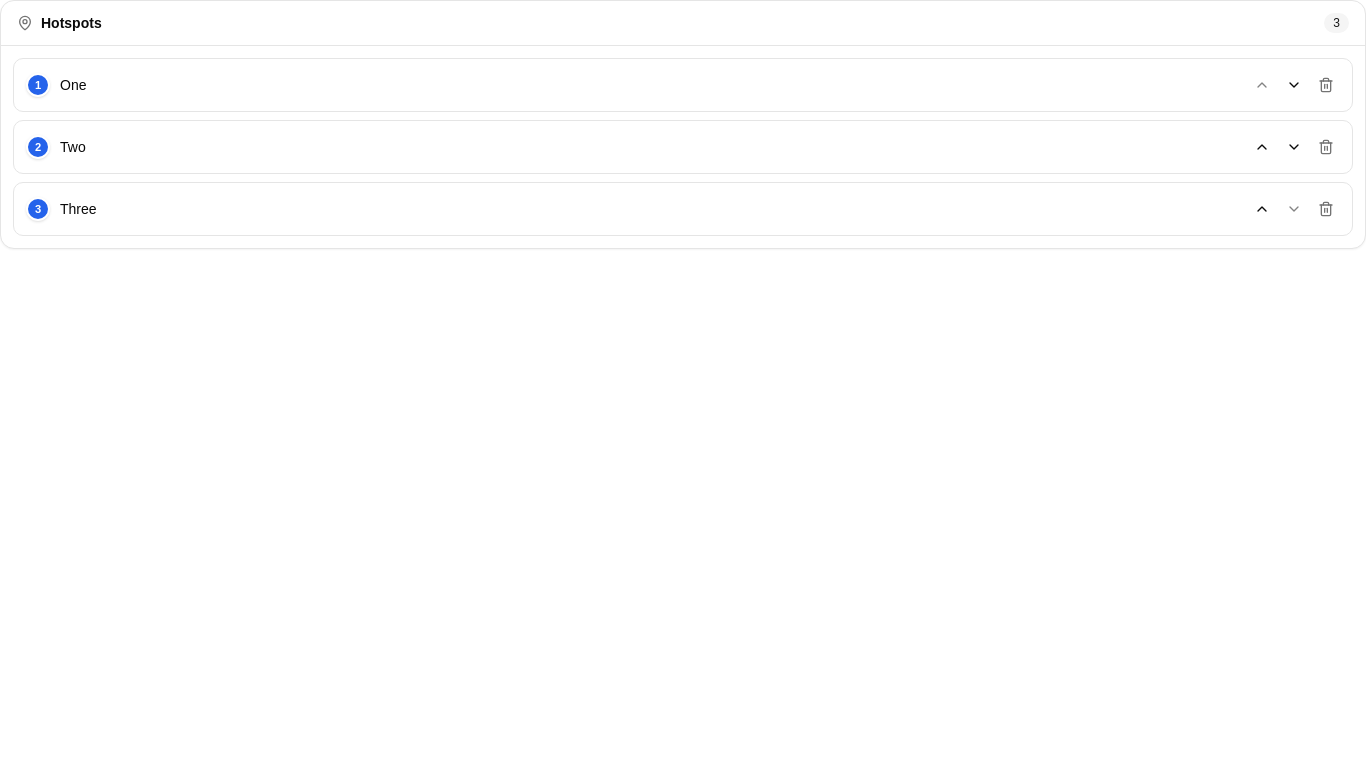
Test case: HotspotInspector › only expands the fields of the selected hotspot
expect the field labelled "Title" is not shown: met
Step 1. Click the button "One" → (73, 85), box top-left (54, 71), bottom-right (1244, 99)
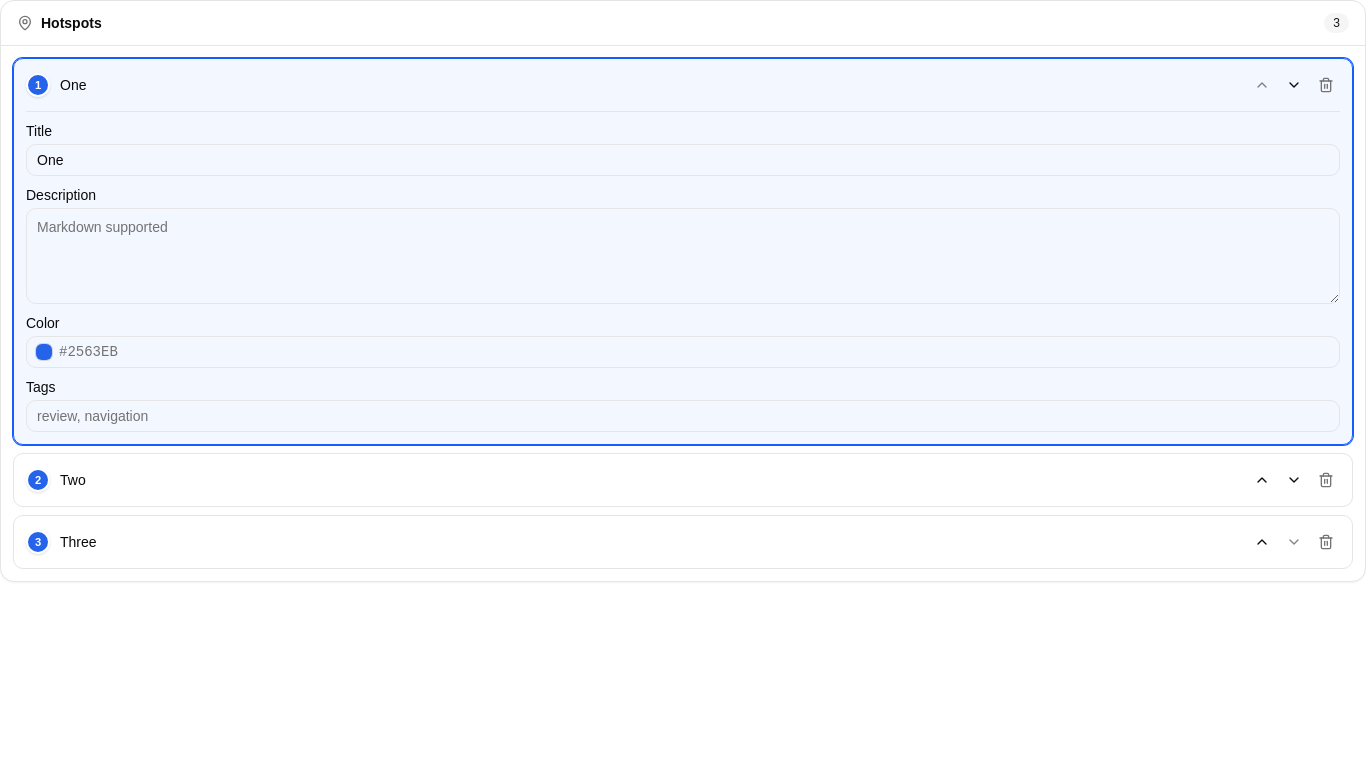
expect the number of fields labelled "Title" is 1: met, box top-left (26, 144), bottom-right (1340, 176)
Step 2. Focus the button named "Move Two up" → (1262, 480), box top-left (1248, 466), bottom-right (1276, 494)
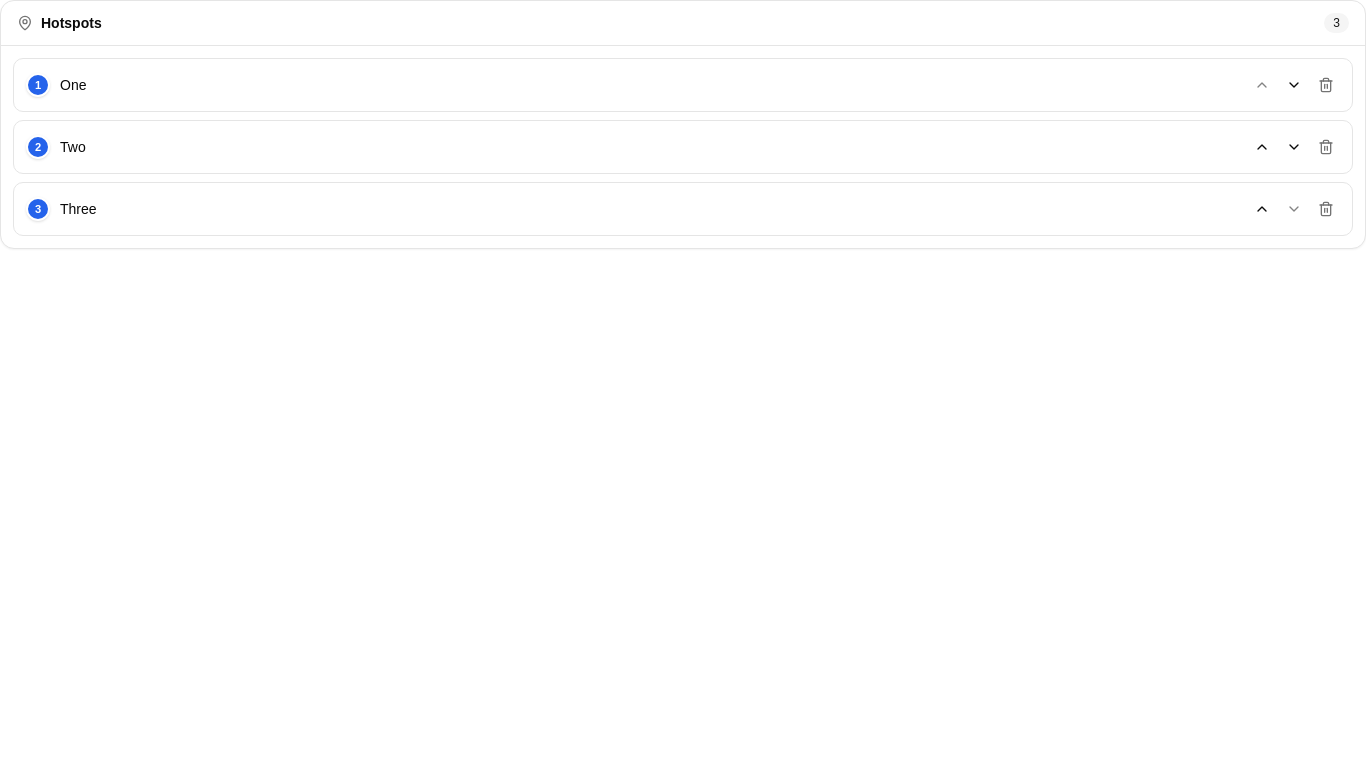
expect the label labelled "Title" is gone: met
